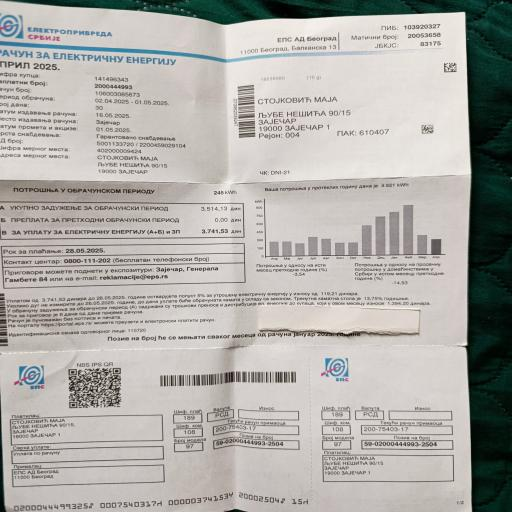racun_za_struju: (0, 179, 250, 255)
